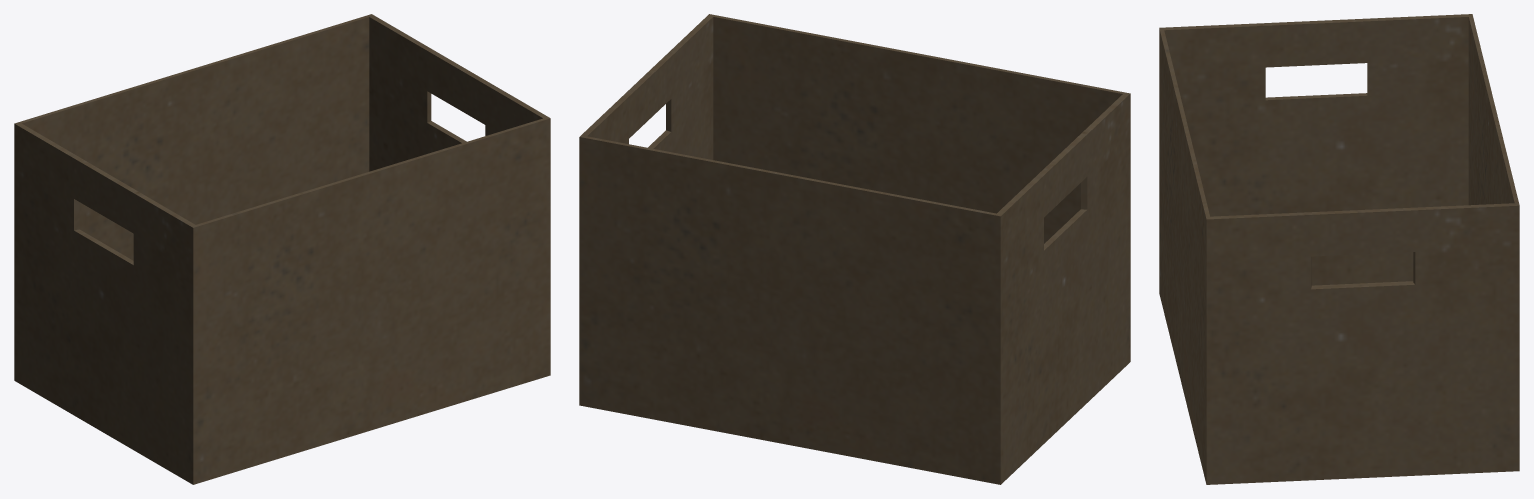
The model's file is file box open.fbx.
The picture shows the model from 3 angles, left to right: view 1: azimuth 30°, elevation 25°; view 2: azimuth 150°, elevation 25°; view 3: azimuth 270°, elevation 25°; orthographic projection. The views are drawn at different scales.
Visible parts, largest first — view 1: Mesh_24; view 2: Mesh_24; view 3: Mesh_24.
Boxes of the visible parts, x1=… form: Mesh_24: x1=14, y1=14, x2=550, y2=484; Mesh_24: x1=579, y1=14, x2=1130, y2=484; Mesh_24: x1=1159, y1=14, x2=1519, y2=484.
Bounding box in the file's own units: 189 × 114 × 140.
